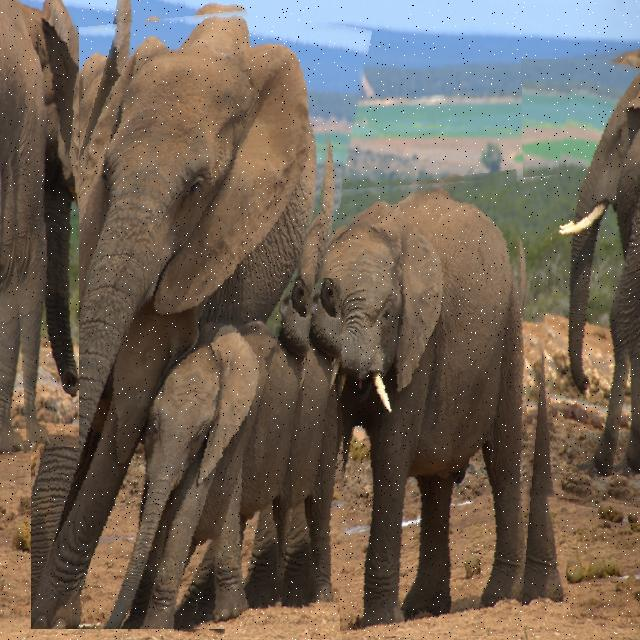elephant: (31, 0, 344, 629), (301, 175, 557, 636), (174, 277, 368, 639), (521, 59, 640, 505), (0, 0, 79, 451)
